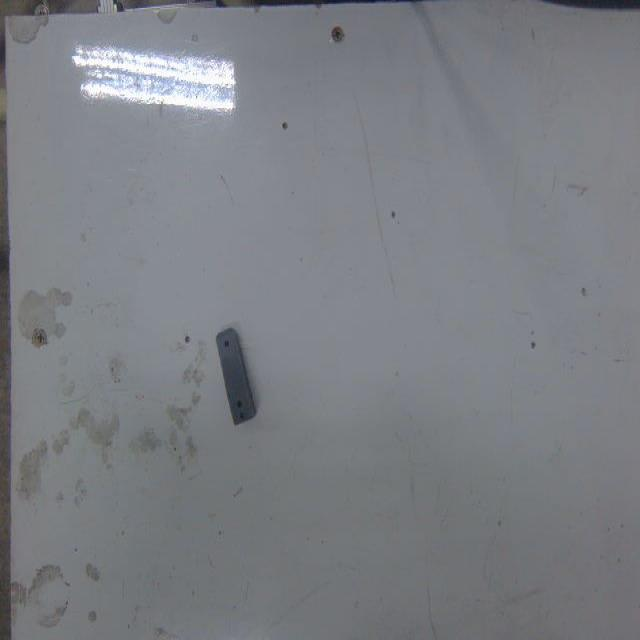grey: (217, 328, 260, 428)
head: (224, 340, 230, 348)
